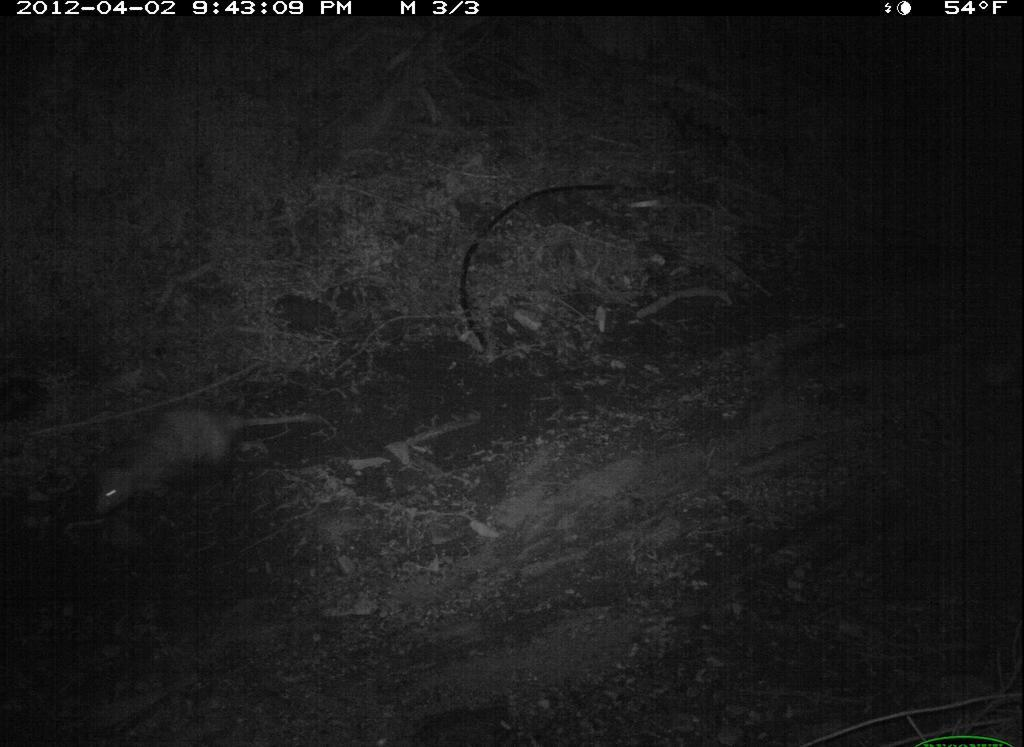opossum: (86, 395, 345, 527)
